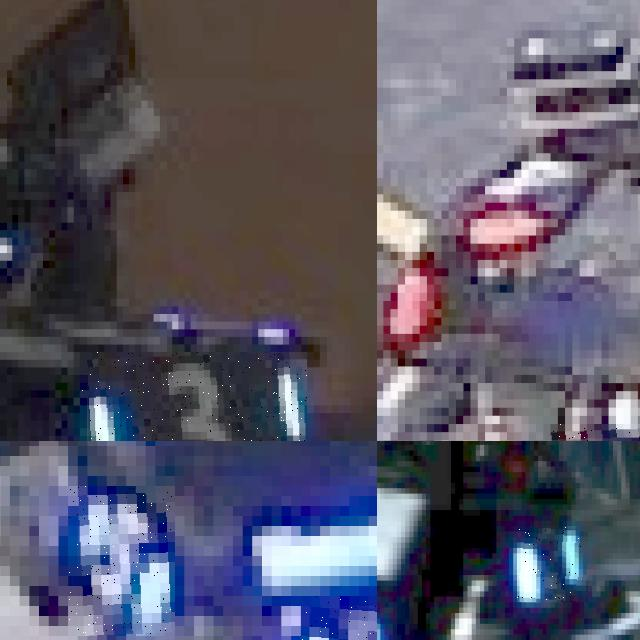B3: (79, 352, 307, 441)
B5: (68, 486, 175, 636), (300, 596, 377, 640)
Bs: (517, 521, 588, 602)
